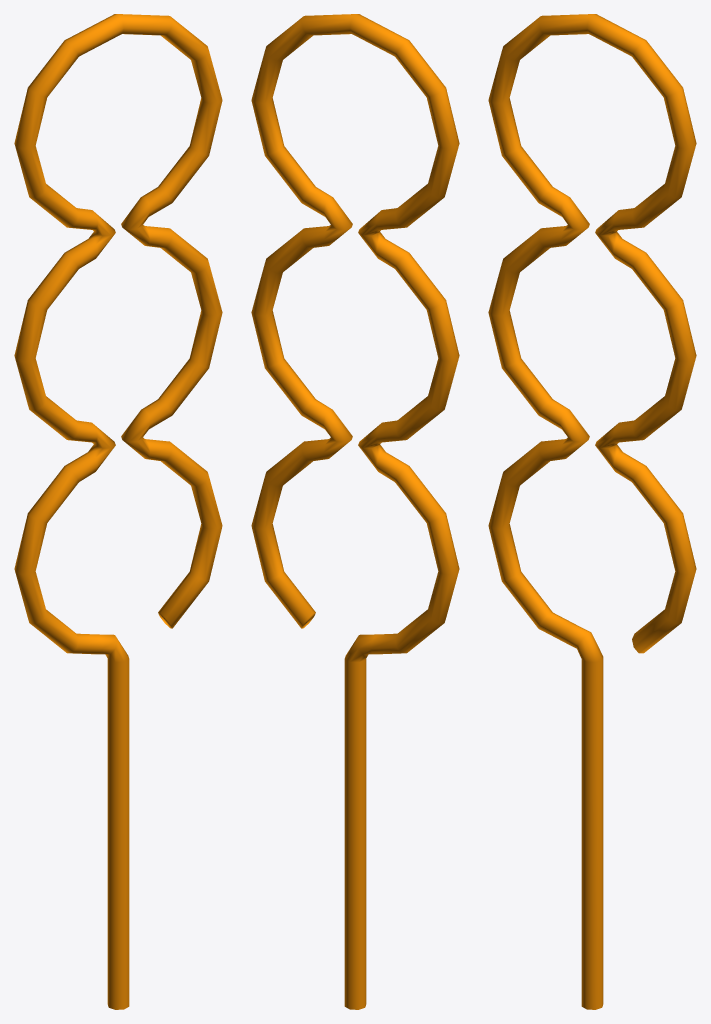
Rendered from DangoNeon_01.fbx.
The picture shows the model from 3 angles, left to right: view 1: azimuth 30°, elevation 25°; view 2: azimuth 150°, elevation 25°; view 3: azimuth 330°, elevation 25°; orthographic projection.
Parts seen in each view (by area): view 1: DangoNeon_01; view 2: DangoNeon_01; view 3: DangoNeon_01.
Boxes of the visible parts, x1,y1,x2,y2 form: DangoNeon_01: (14,14,222,1009); DangoNeon_01: (251,14,459,1009); DangoNeon_01: (488,14,696,1009).
Bounding box in the file's own units: 359 × 1653 × 34.01.
